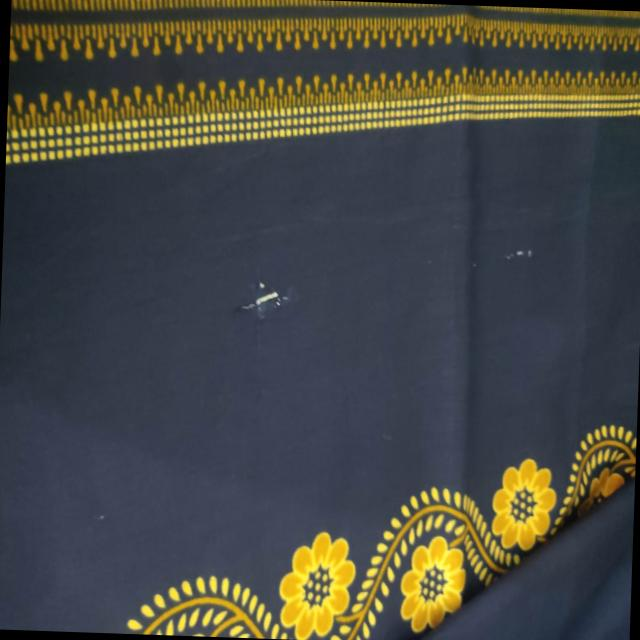selvet: (218, 272, 303, 340), (502, 239, 538, 277)
